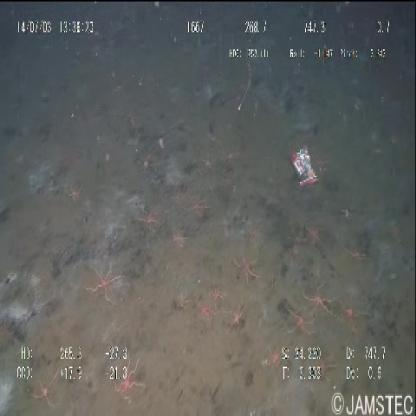Rác: (289, 148, 318, 188)
